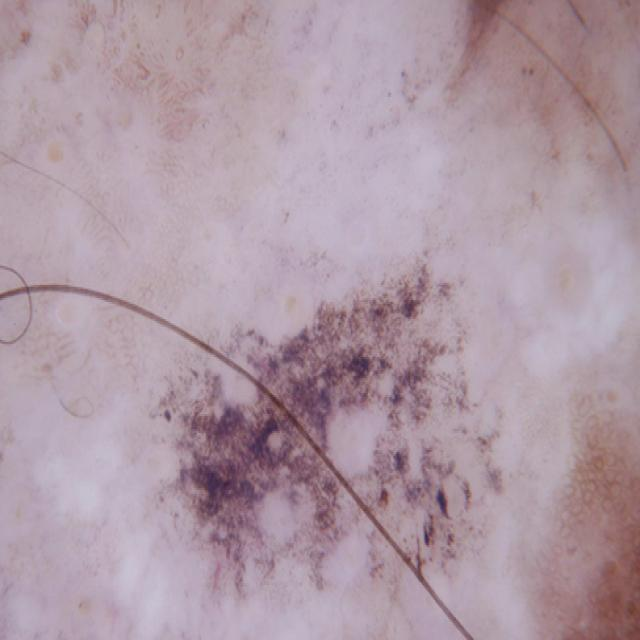Keratosis: (138, 218, 560, 640), (532, 528, 640, 640)
